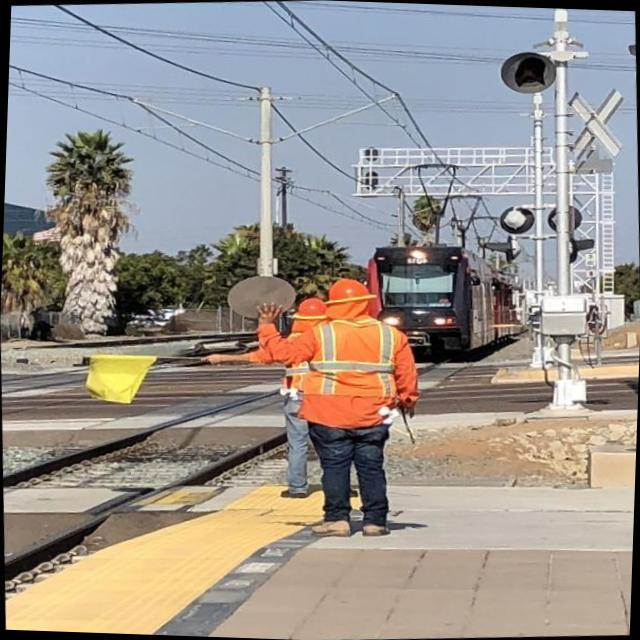person: (255, 280, 417, 537)
